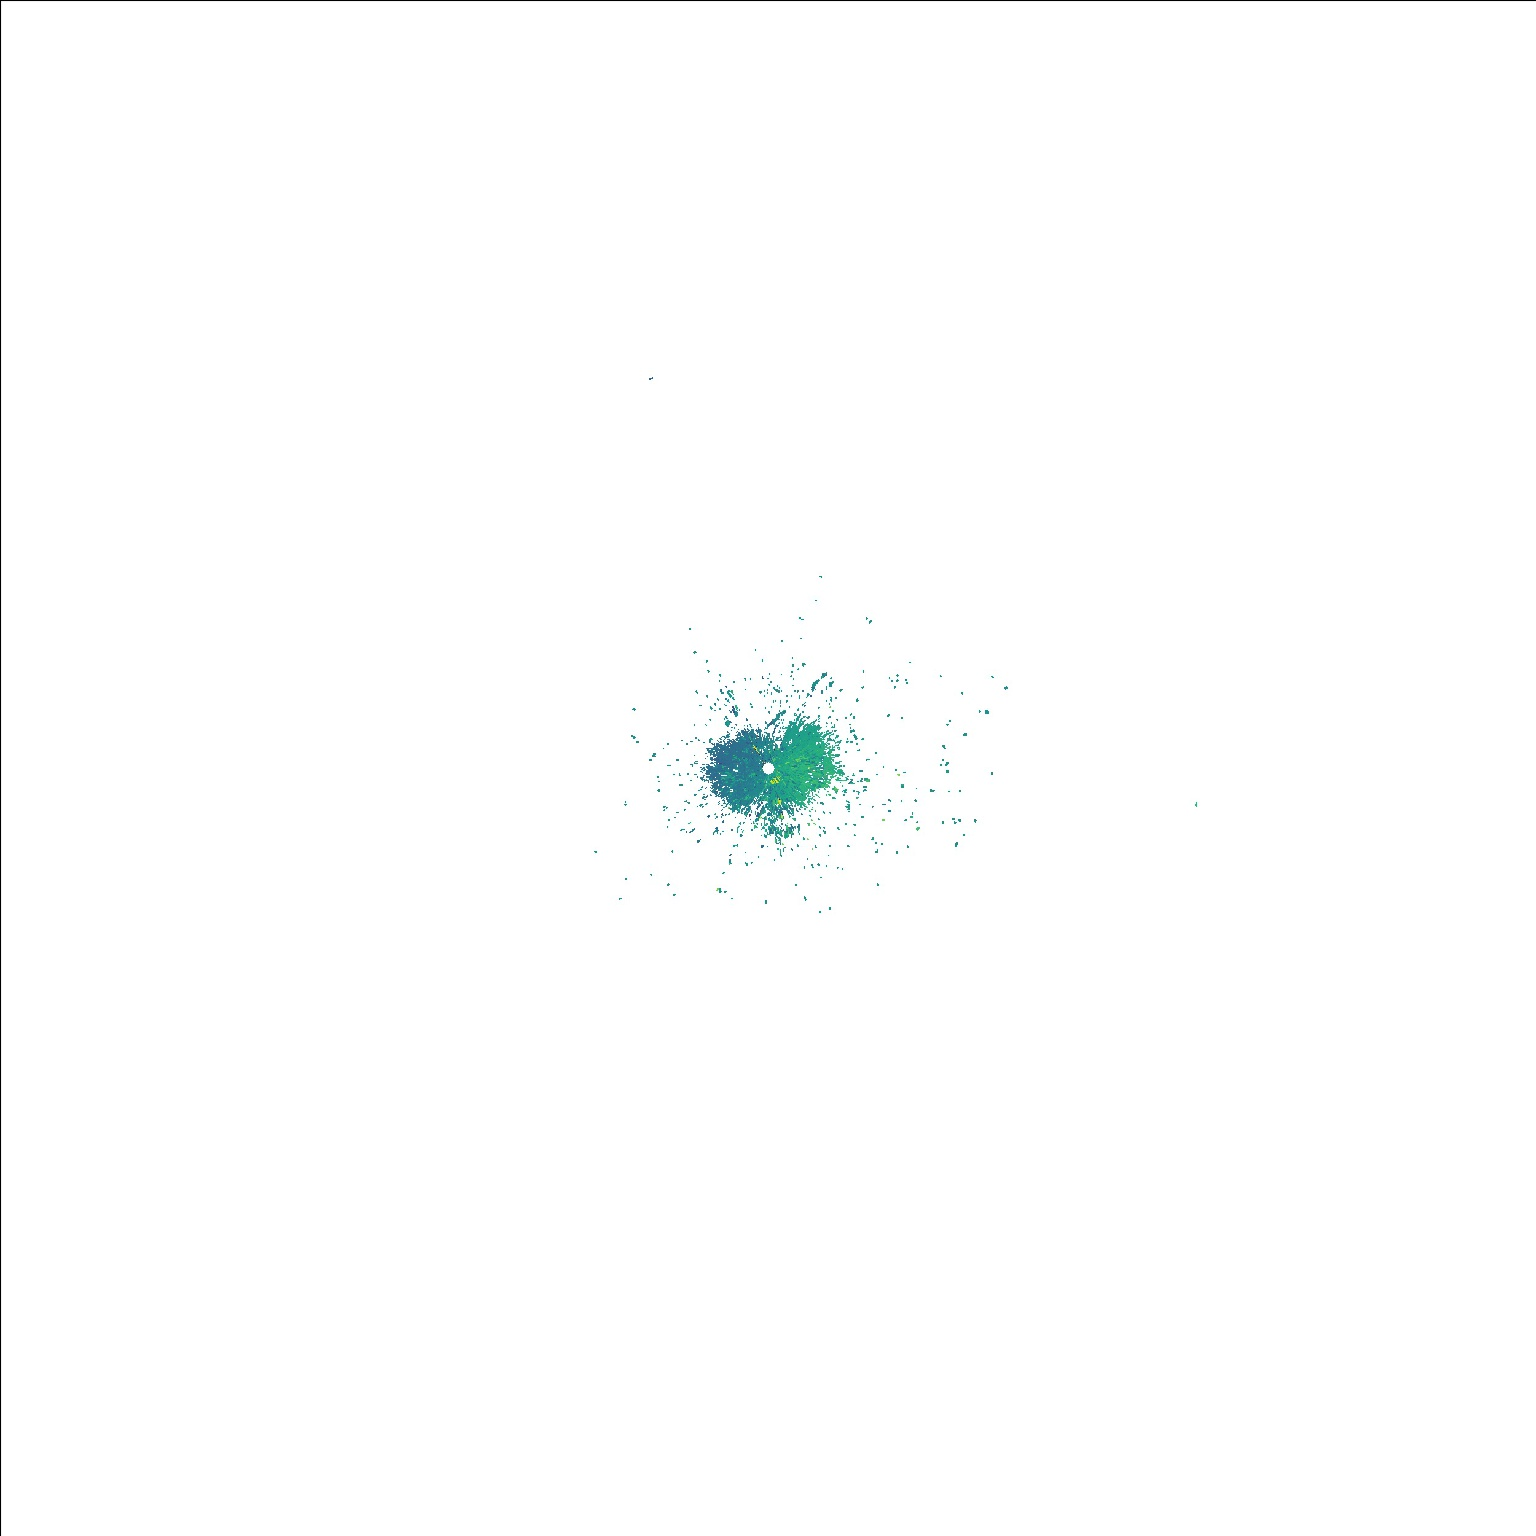fall: (647, 376, 655, 383)
